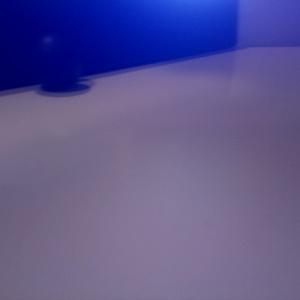dead_ball: (29, 36, 83, 92)
